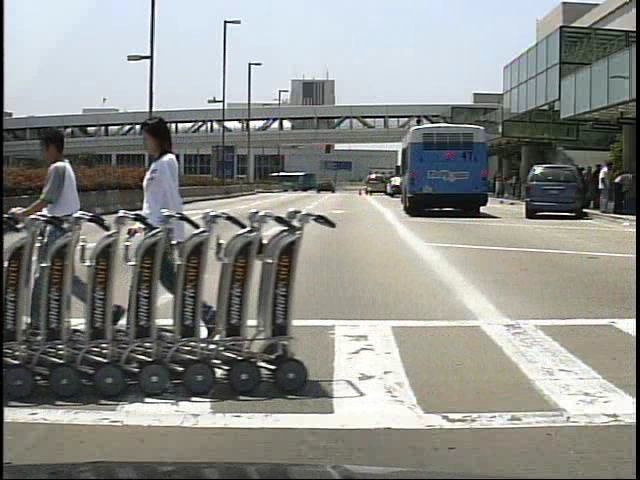person: (129, 110, 218, 351), (28, 121, 104, 340), (598, 160, 618, 215), (589, 164, 604, 214)
